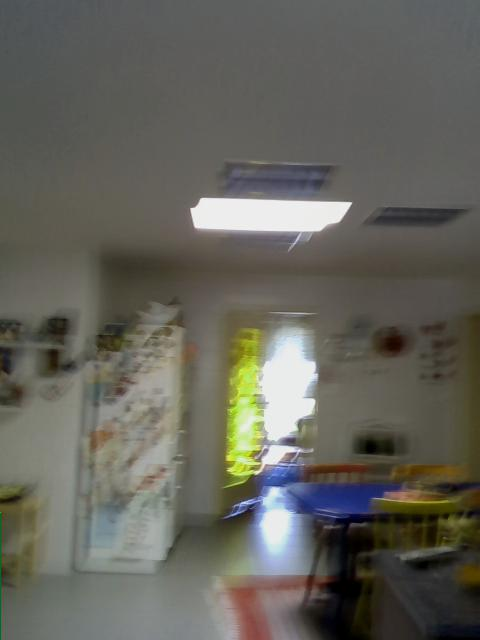semi_door: (205, 302, 323, 531)
